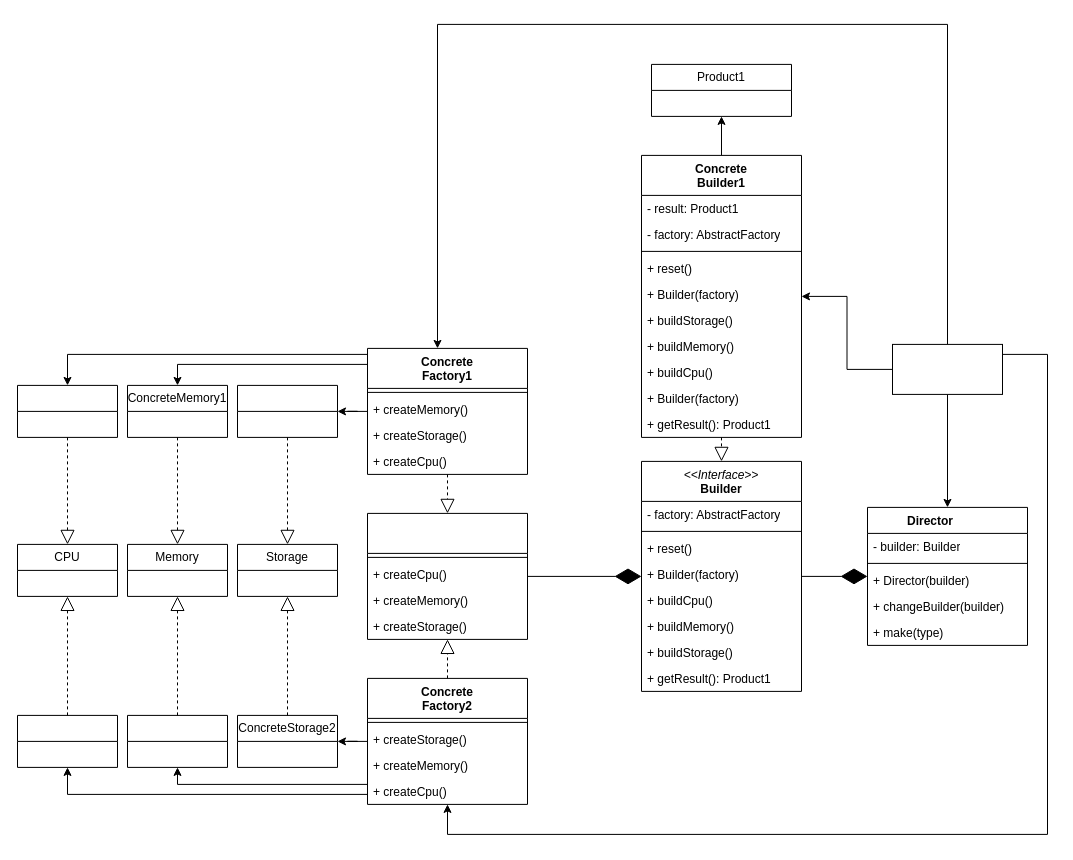
Some shapes in this 1073 by 860 pixel diagram are drawn without their labels. The box of each missing label's shape, as (x1, y1, x2, y2) in pixels:
<<Interface>> AbstractFactory: (366, 512, 528, 639)
Client: (892, 343, 1002, 394)
ConcreteCPU1: (16, 384, 118, 437)
ConcreteCPU2: (16, 714, 118, 767)
ConcreteMemory2: (126, 714, 228, 767)
ConcreteStorage1: (236, 384, 338, 437)
